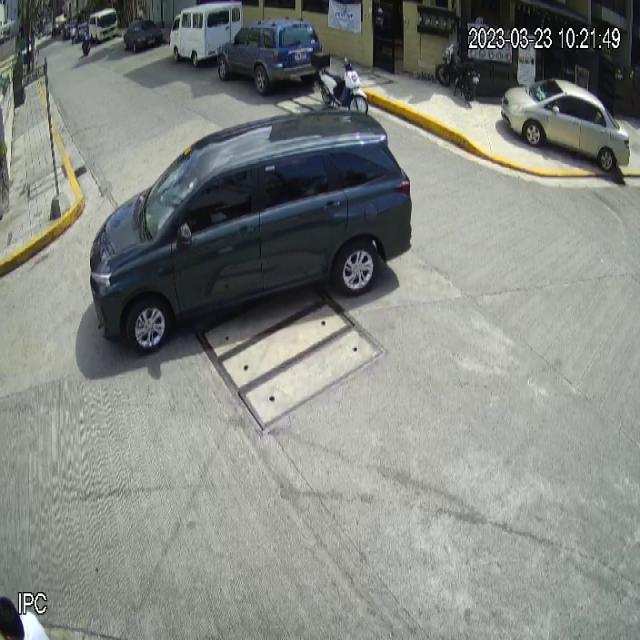Car: (88, 105, 414, 357), (500, 76, 630, 173), (215, 15, 322, 93)
Motorcycle: (311, 51, 368, 111)
Van: (169, 0, 244, 67)
